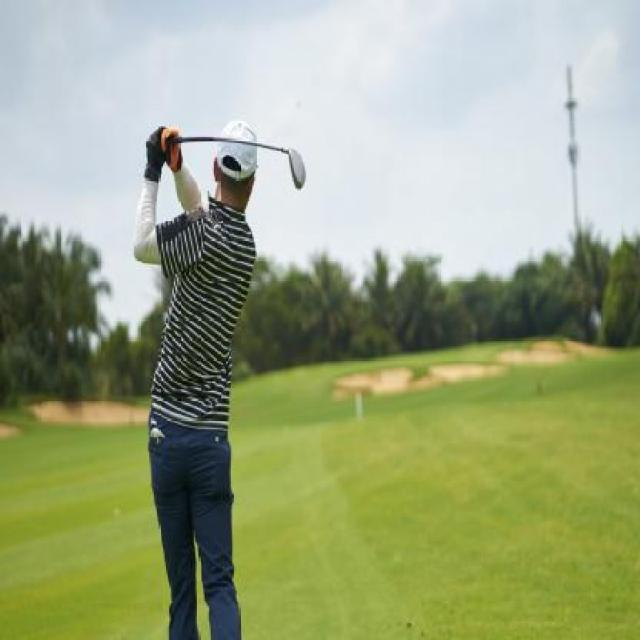club head: (281, 144, 307, 190)
